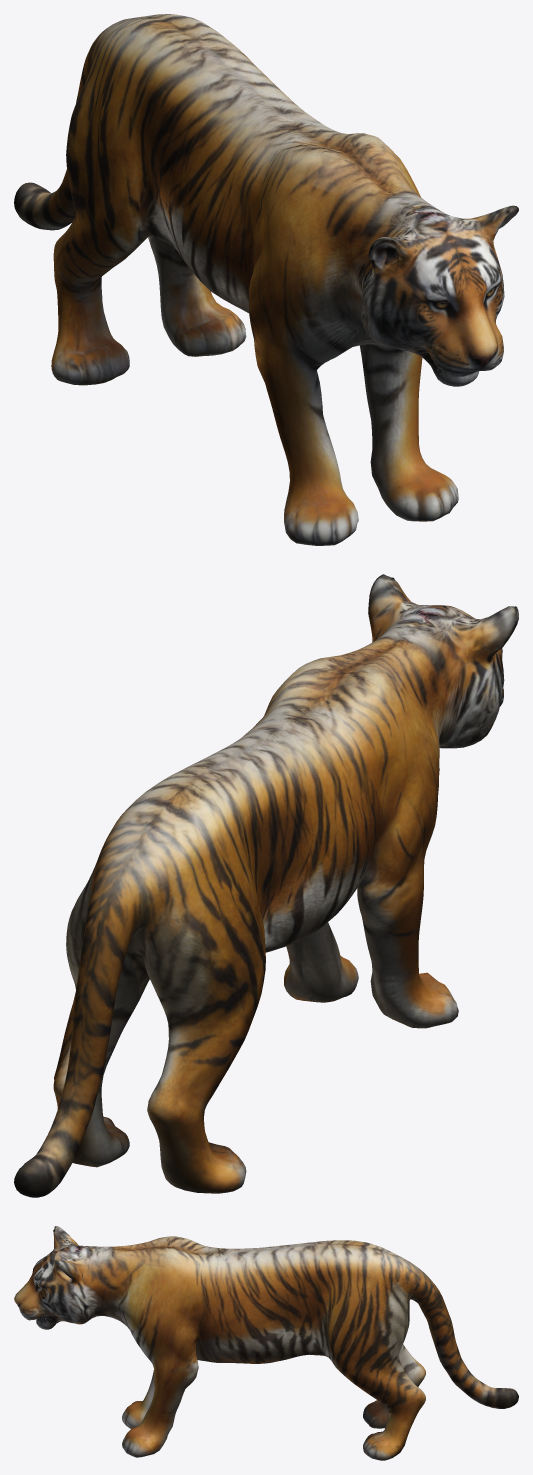
The model's file is tiger.glb.
3 views of the same model, one above another, from view 1: azimuth 30°, elevation 25°; view 2: azimuth 150°, elevation 25°; view 3: azimuth 270°, elevation 25° (orthographic). The views are drawn at different scales.
Parts seen in each view (by area): view 1: Mesh1_Mesh1.007; view 2: Mesh1_Mesh1.007; view 3: Mesh1_Mesh1.007.
Boxes of the visible parts, bbox=[...] form: Mesh1_Mesh1.007: bbox=[14, 14, 518, 545]; Mesh1_Mesh1.007: bbox=[14, 574, 518, 1197]; Mesh1_Mesh1.007: bbox=[14, 1226, 518, 1460].
Bounding box in the file's own units: 0.4659 × 0.852 × 2.
1 material, 1 textured.
